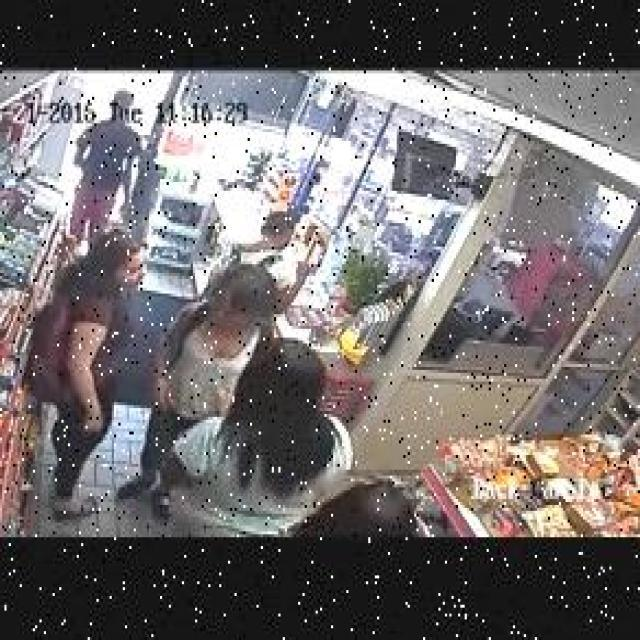Shoplifting: (152, 262, 288, 508)
